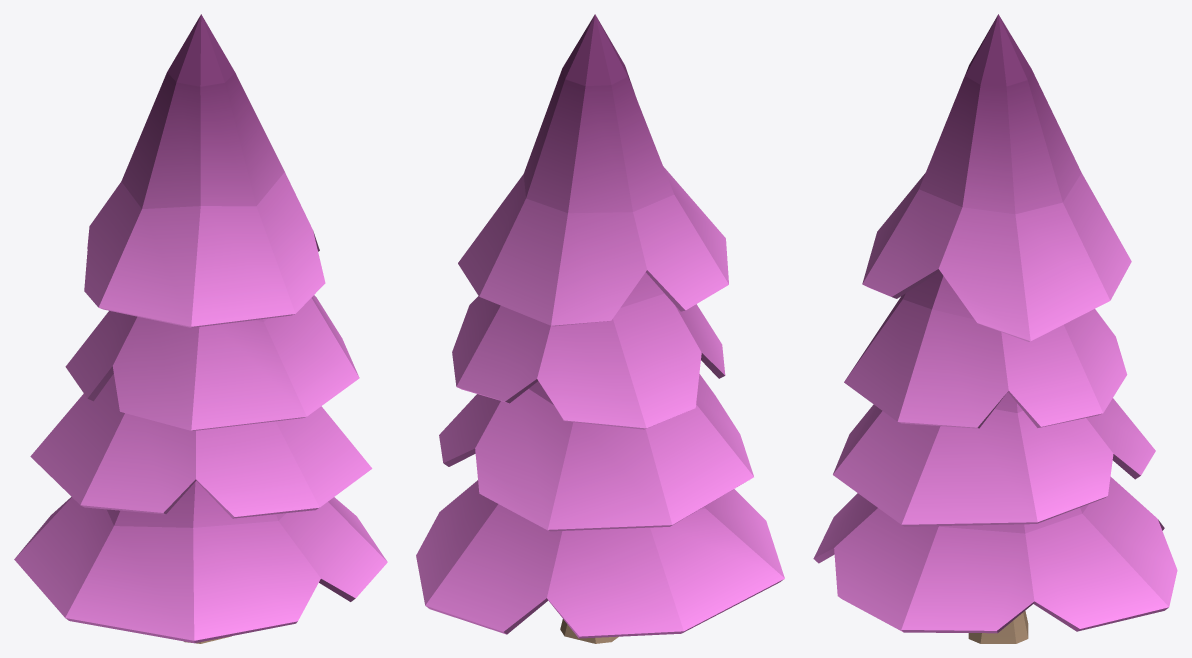
File: SpringPine5.fbx
The picture shows the model from 3 angles, left to right: view 1: azimuth 30°, elevation 25°; view 2: azimuth 150°, elevation 25°; view 3: azimuth 270°, elevation 25°; orthographic projection.
Visible parts, largest first — view 1: SpringPine5; view 2: SpringPine5; view 3: SpringPine5.
Boxes of the visible parts, box(x1,y1,x2,y2) form: SpringPine5: box(14, 14, 387, 643); SpringPine5: box(416, 14, 784, 643); SpringPine5: box(813, 14, 1177, 643).
Size of the model in its own units: 503 by 931 by 498.
